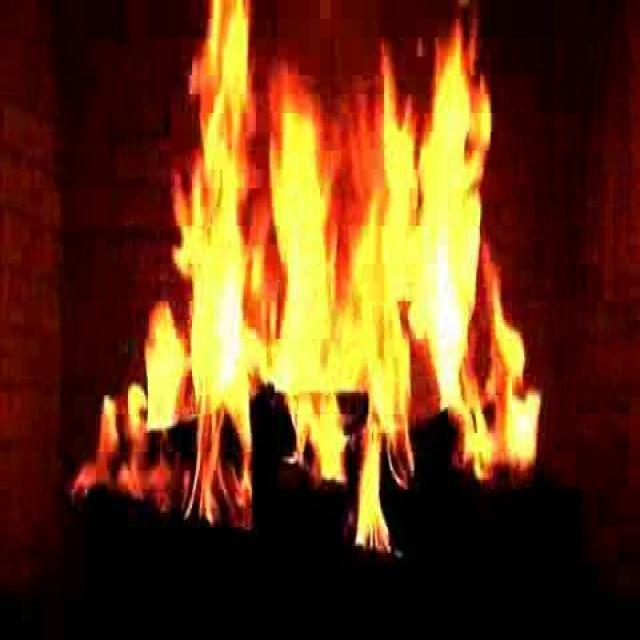Fire: (148, 5, 524, 542)
